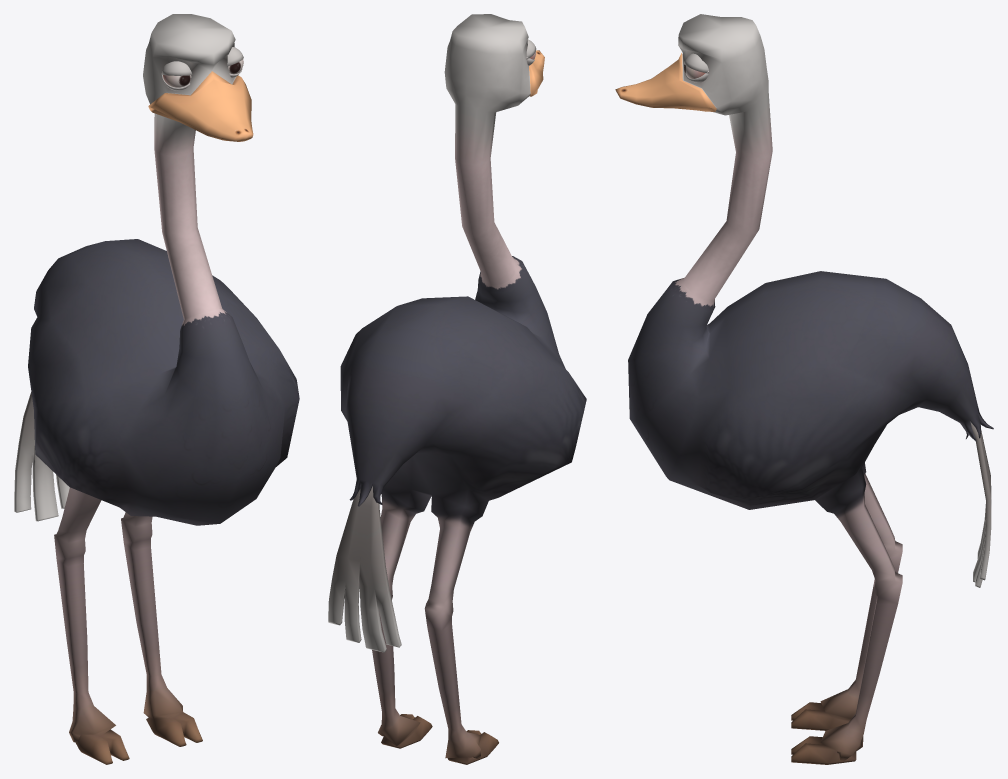
File: ostrich.FBX
3 views of the same model, side by side, from view 1: azimuth 30°, elevation 25°; view 2: azimuth 150°, elevation 25°; view 3: azimuth 270°, elevation 25° (orthographic). The views are drawn at different scales.
Visible parts, largest first — view 1: Sphere001; view 2: Sphere001; view 3: Sphere001.
Boxes of the visible parts, x1,y1,x2,y2 form: Sphere001: [14, 14, 299, 764]; Sphere001: [328, 14, 586, 764]; Sphere001: [615, 14, 993, 764].
Size of the model in its own units: 27.9 by 84.52 by 40.57.
1 material, 1 textured.
